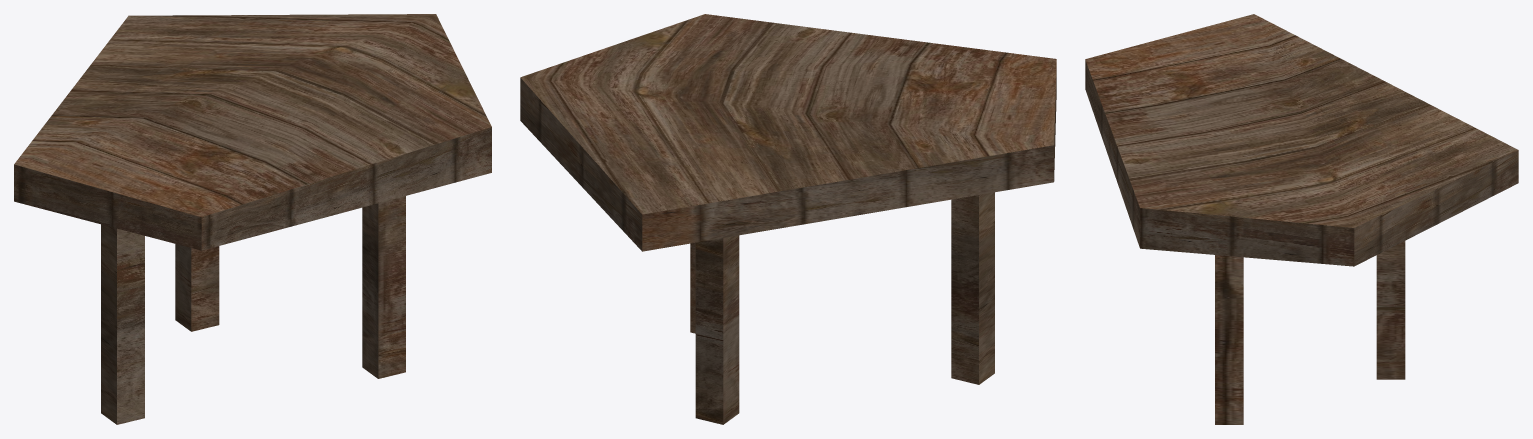
Rendered from Table_1.fbx.
3 views of the same model, side by side, from view 1: azimuth 30°, elevation 25°; view 2: azimuth 150°, elevation 25°; view 3: azimuth 270°, elevation 25° (orthographic). The views are drawn at different scales.
Parts seen in each view (by area): view 1: Table_1; view 2: Table_1; view 3: Table_1.
Boxes of the visible parts, <box> form: Table_1: <box>14,14,491,424</box>; Table_1: <box>520,14,1056,424</box>; Table_1: <box>1085,14,1518,424</box>.
Bounding box in the file's own units: 297 × 167 × 263.
